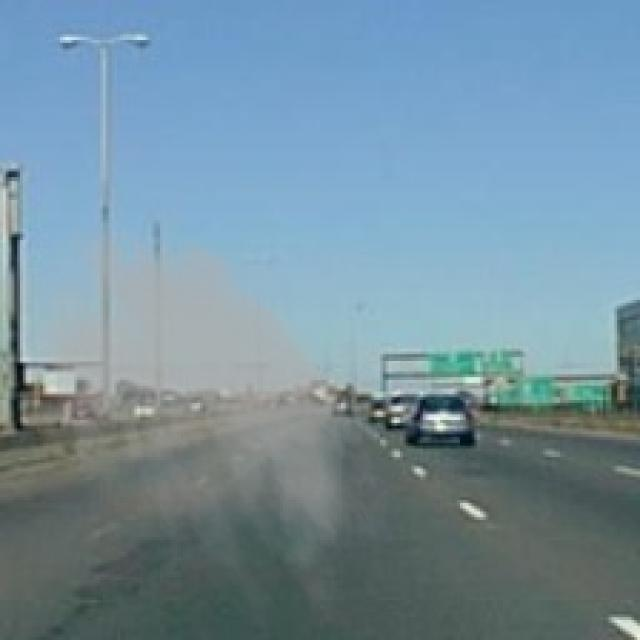smoke: (6, 212, 400, 628)
